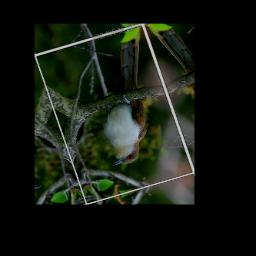Cuckoo: (70, 28, 180, 169)
